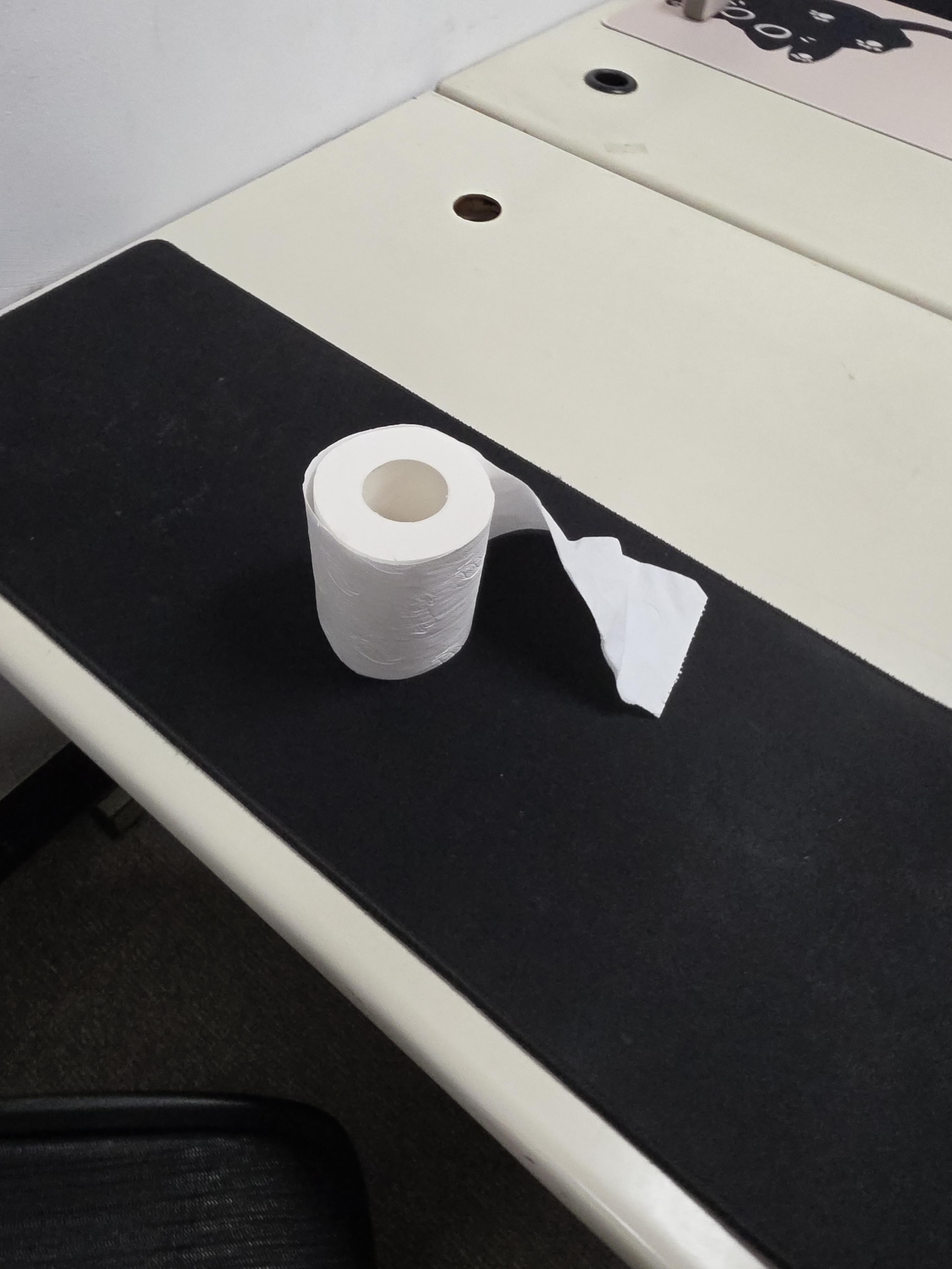tissue: (302, 423, 708, 719)
